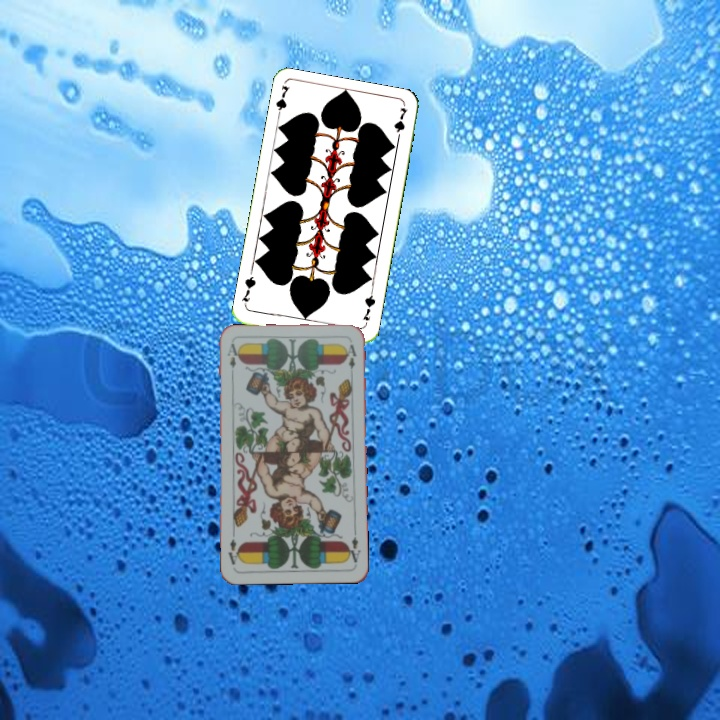EA: (344, 526, 363, 565), (223, 339, 240, 371)
G7: (272, 82, 292, 122), (359, 289, 378, 323)
